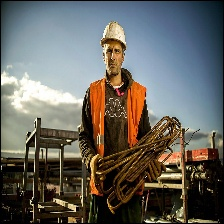helmet: (101, 21, 126, 44)
person: (80, 19, 155, 224)
